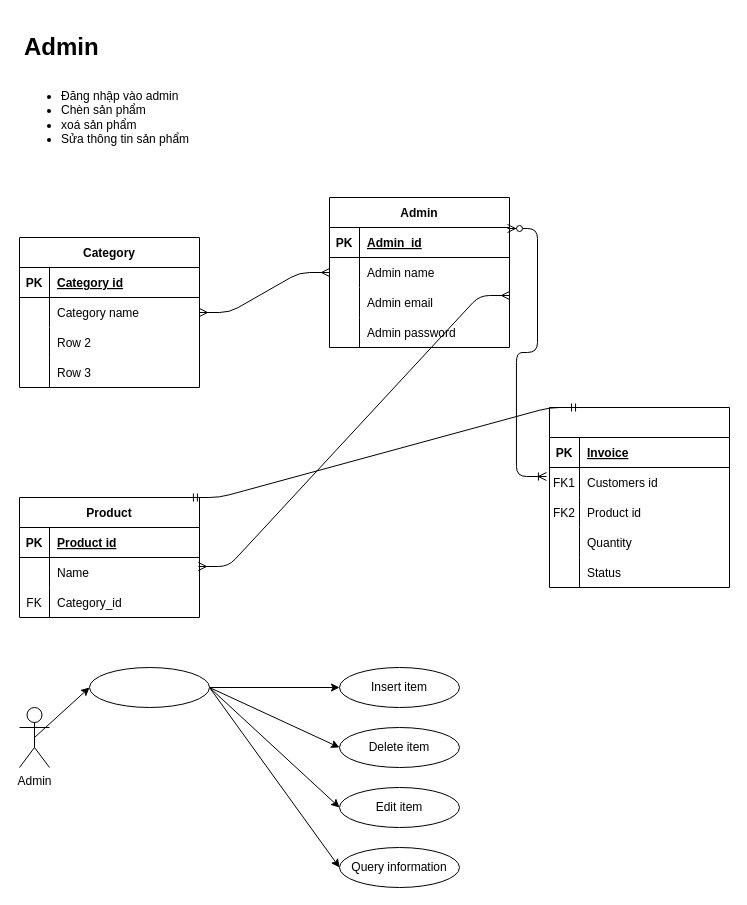
This 747x905 diagram has some shape labels left out. The box of each missing label's shape, as (x1, y1, x2, y2) in pixels:
Login: (88, 666, 210, 708)
Orders: (548, 406, 730, 588)
